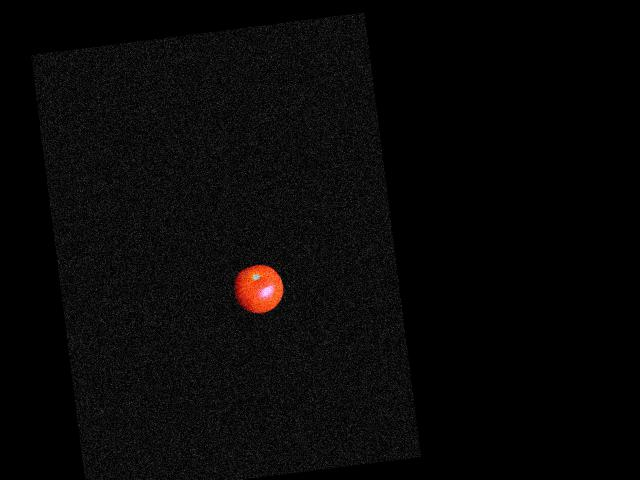tomato: (230, 262, 286, 316)
